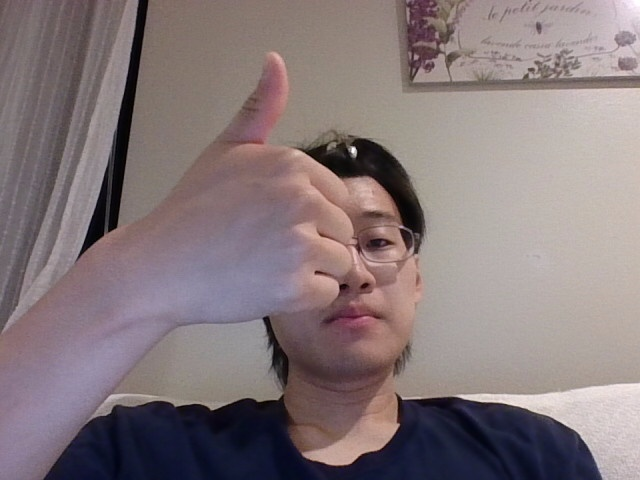ThumbsUp: (169, 52, 354, 323)
